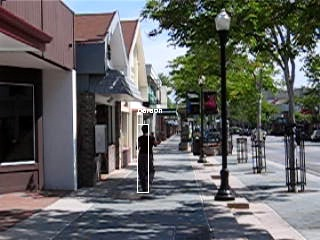person: (134, 125, 157, 194), (133, 125, 156, 194), (135, 125, 158, 194), (134, 124, 157, 193), (134, 126, 157, 195)
target_negative: (266, 50, 292, 232), (1, 105, 190, 130), (90, 222, 316, 239), (278, 59, 319, 129), (182, 46, 256, 61), (196, 180, 315, 189)
